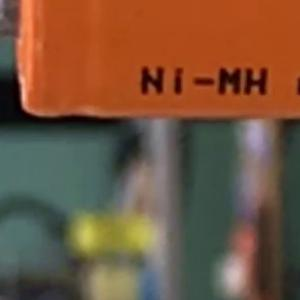NI-MH: (131, 59, 277, 104)
